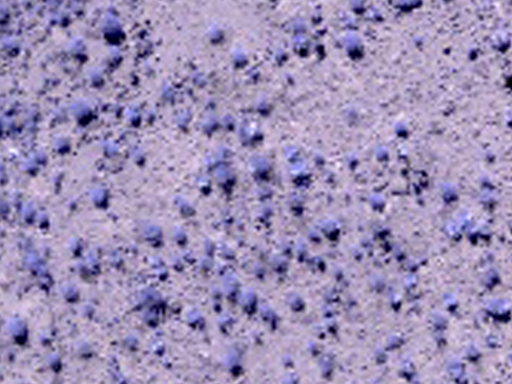agave: (21, 245, 59, 291), (65, 93, 102, 130), (449, 211, 483, 246), (477, 291, 512, 323), (243, 151, 275, 185), (283, 158, 318, 189), (17, 145, 52, 176), (98, 8, 128, 44), (181, 300, 211, 335), (317, 210, 346, 246), (212, 158, 241, 194), (59, 33, 93, 62), (338, 30, 371, 59), (219, 273, 248, 305), (248, 90, 281, 118), (125, 140, 155, 170), (169, 105, 200, 133), (200, 147, 234, 172), (258, 296, 282, 331), (235, 285, 262, 316), (97, 135, 126, 163), (139, 219, 166, 249), (394, 356, 422, 384), (170, 191, 199, 218), (87, 184, 117, 210), (222, 347, 248, 377), (287, 30, 315, 57), (434, 178, 463, 204), (290, 239, 316, 268), (31, 208, 57, 236), (21, 196, 45, 226), (202, 19, 228, 46), (86, 63, 112, 90), (57, 281, 84, 307), (147, 253, 172, 281), (121, 103, 149, 128), (146, 336, 174, 361), (9, 318, 36, 343), (282, 137, 305, 166), (79, 249, 102, 278), (472, 167, 500, 190), (197, 112, 222, 137), (102, 44, 126, 70), (227, 45, 253, 69), (458, 341, 485, 364), (49, 134, 78, 155), (283, 14, 312, 35), (216, 311, 240, 335), (385, 287, 408, 312), (382, 328, 407, 351), (365, 192, 392, 213), (391, 116, 414, 140), (401, 269, 426, 291), (287, 289, 308, 315), (439, 290, 463, 312), (63, 232, 84, 257), (44, 352, 67, 374), (341, 149, 363, 171), (373, 143, 396, 164), (477, 187, 498, 209), (181, 241, 199, 265), (344, 1, 372, 16), (304, 335, 323, 355), (172, 224, 188, 247), (410, 32, 429, 51), (170, 254, 187, 272)
